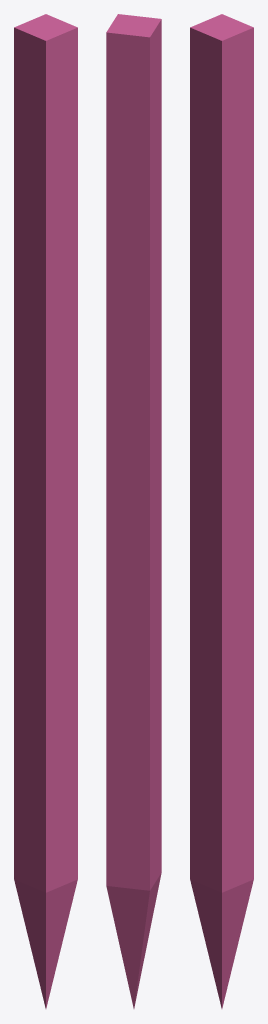
File: Pin2.fbx
3 views of the same model, side by side, from view 1: azimuth 90°, elevation 25°; view 2: azimuth 210°, elevation 25°; view 3: azimuth 270°, elevation 25° (orthographic).
Parts seen in each view (by area): view 1: Cone; view 2: Cone; view 3: Cone.
Boxes of the visible parts, box(x1,y1,x2,y2) form: Cone: box(14, 14, 77, 1008); Cone: box(106, 14, 161, 1008); Cone: box(190, 14, 253, 1008).
Bounding box in the file's own units: 16.76 × 284 × 16.76.
